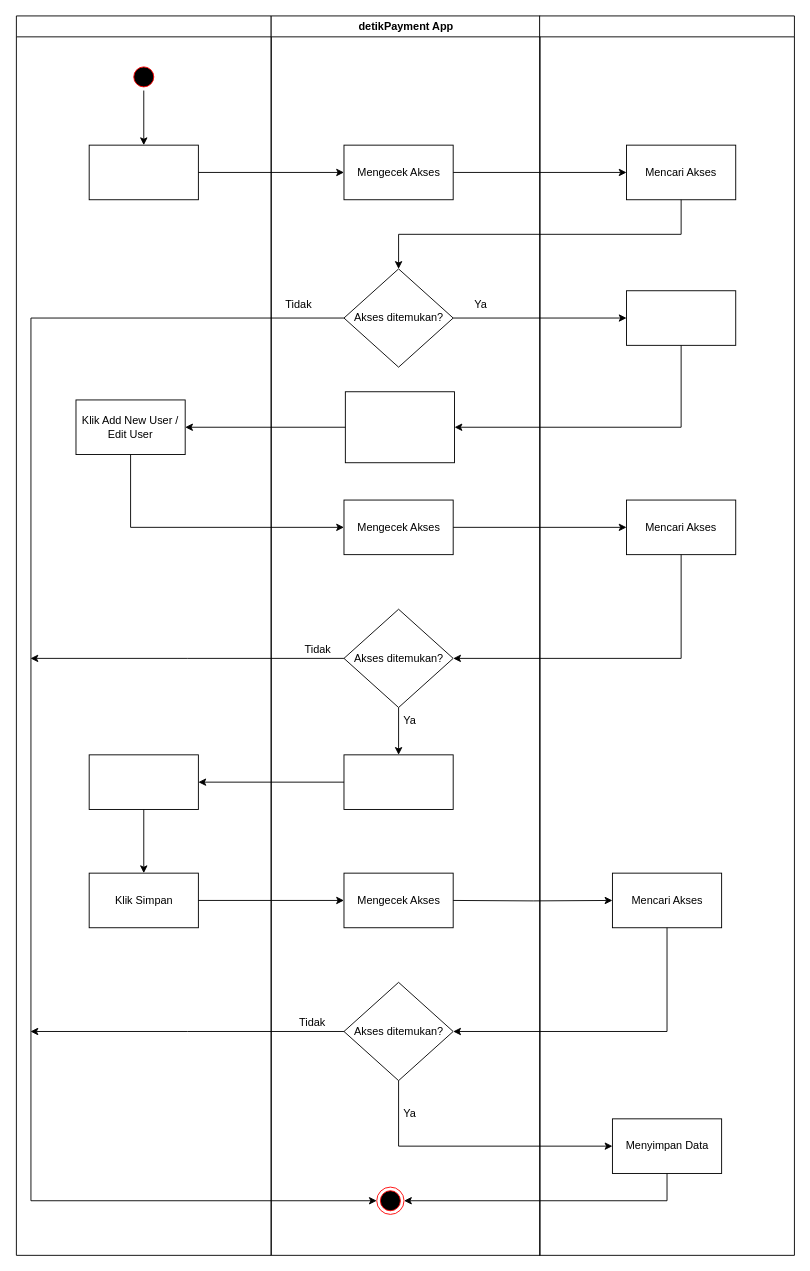
The diagram is 810 pixels wide and 1271 high, and some of its shapes have lost their labels. The box of each missing label's shape, as (x1, y1, x2, y2) in pixels:
Database: (539, 15, 794, 1255)
Melengkapi Form: (88, 754, 198, 809)
Membuka Menu User --> User: (88, 144, 198, 200)
Menampilkan Form: (343, 754, 453, 809)
Menampilkan List User: (344, 391, 455, 463)
Mendapatkan List User: (626, 290, 736, 345)
User Admin / User Merchant: (15, 15, 271, 1255)
